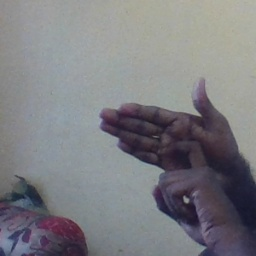R: (98, 74, 236, 238)
